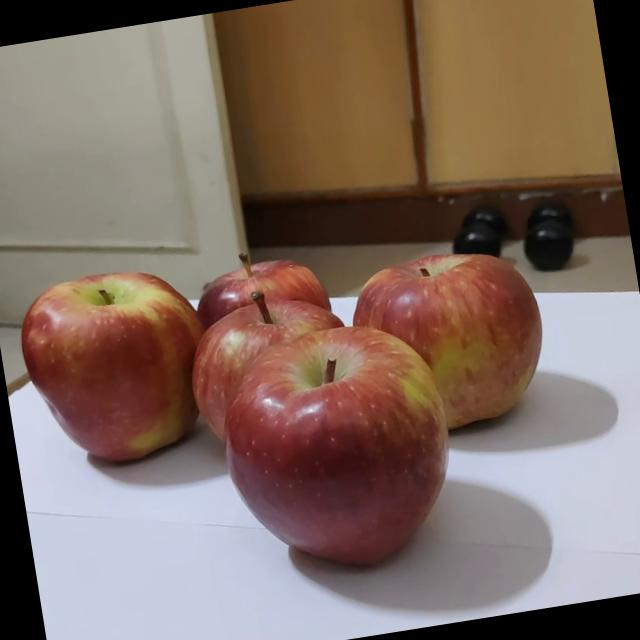apple: (206, 306, 474, 586), (348, 225, 570, 440), (21, 252, 235, 472), (182, 271, 372, 461), (195, 235, 356, 392)
